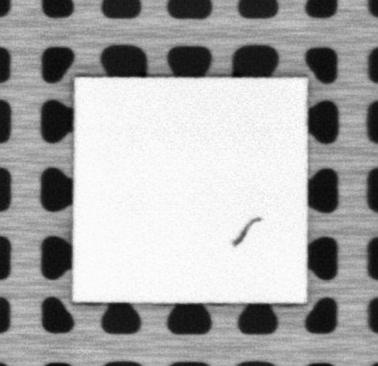DIE_INK: (231, 217, 263, 247)
